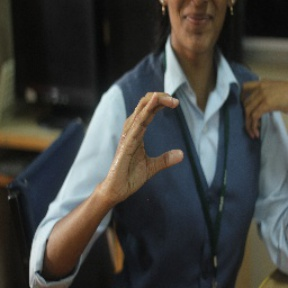C: (112, 86, 196, 182)
